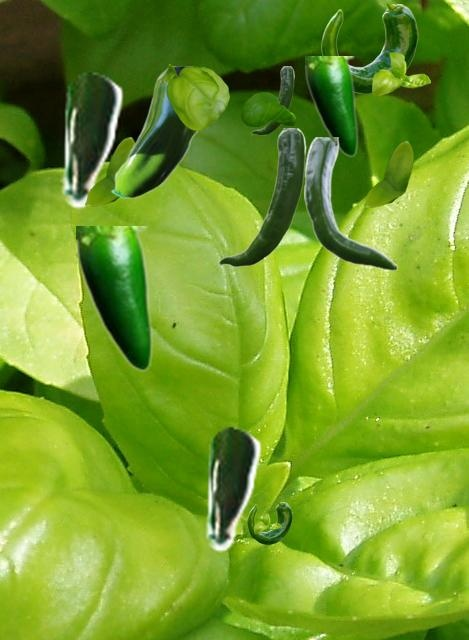green_chili: (304, 137, 397, 269), (218, 128, 305, 266), (110, 66, 199, 198), (76, 226, 152, 371), (58, 70, 123, 208), (321, 4, 417, 92), (202, 425, 261, 551), (305, 56, 357, 156), (251, 66, 293, 134), (247, 502, 291, 543)
